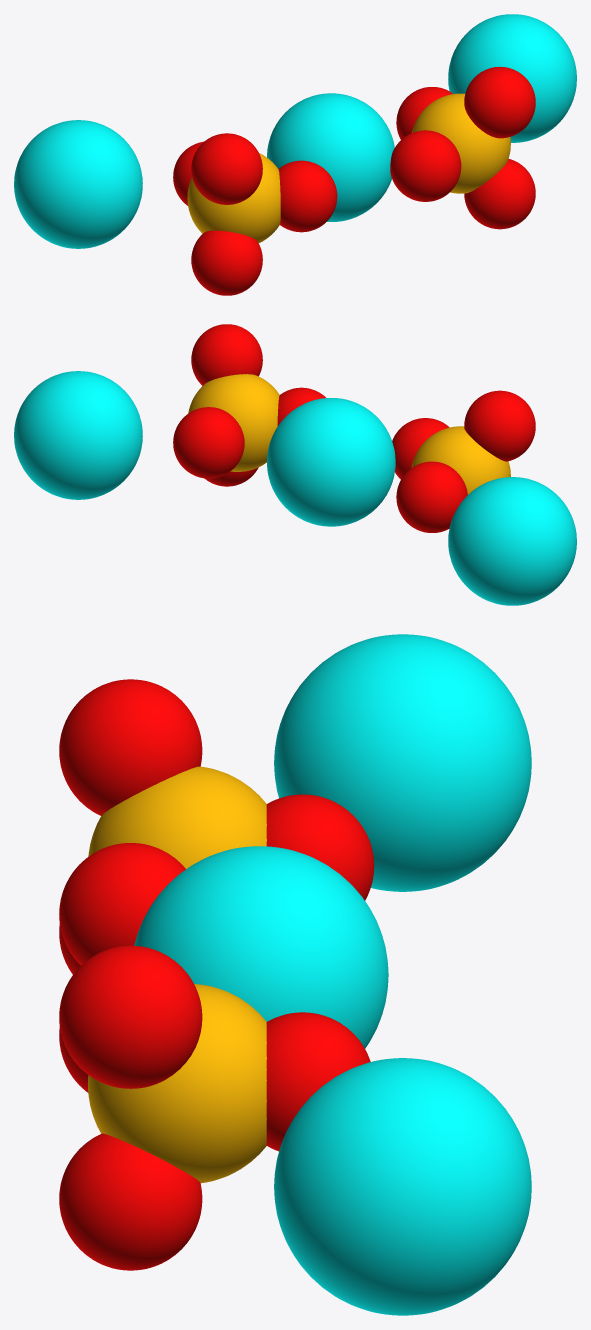
3 renders of one model, top to bottom at view 1: azimuth 30°, elevation 25°; view 2: azimuth 150°, elevation 25°; view 3: azimuth 270°, elevation 25°, orthographic. The views are drawn at different scales.
Visible parts, largest first — view 1: Ca2, Ca1, Ca3, P2, O1_3, O2_2, P1, O2_3, O1_4, O1_2, O2_4, O2_1 (+1 smaller); view 2: Ca2, Ca3, Ca1, P2, O2_1, O1_1, O1_3, O2_3, P1, O1_2, O2_2, O2_4; view 3: Ca3, Ca2, Ca1, P2, O2_3, O2_4, O1_3, P1, O1_2, O2_1, O1_1.
Part boxes in pixels (x1,y1,x2,y2): Ca2: [14, 120, 142, 248]; Ca1: [267, 93, 394, 221]; Ca3: [448, 14, 576, 142]; P2: [412, 93, 510, 193]; O1_3: [191, 133, 262, 204]; O2_2: [390, 130, 461, 201]; P1: [187, 153, 280, 242]; O2_3: [464, 66, 535, 138]; O1_4: [191, 230, 262, 295]; O1_2: [278, 160, 337, 232]; O2_4: [464, 159, 535, 229]; O2_1: [396, 87, 452, 139]; Ca2: [448, 477, 576, 605]; Ca3: [14, 371, 142, 499]; Ca1: [267, 398, 395, 526]; P2: [188, 374, 279, 471]; O2_1: [173, 407, 244, 478]; O1_1: [396, 461, 467, 532]; O1_3: [464, 390, 535, 461]; O2_3: [191, 324, 262, 385]; P1: [411, 426, 510, 494]; O1_2: [392, 418, 449, 479]; O2_2: [277, 387, 325, 425]; O2_4: [204, 467, 258, 486]; Ca3: [274, 1058, 531, 1315]; Ca2: [274, 634, 531, 891]; Ca1: [134, 846, 388, 1048]; P2: [88, 984, 266, 1183]; O2_3: [59, 945, 202, 1088]; O2_4: [59, 1133, 202, 1270]; O1_3: [59, 679, 202, 815]; P1: [88, 766, 266, 868]; O1_2: [59, 843, 185, 965]; O2_1: [266, 1012, 370, 1151]; O1_1: [266, 794, 374, 900].
Size of the model in its own units: 8.8 by 2.4 by 3.3.
